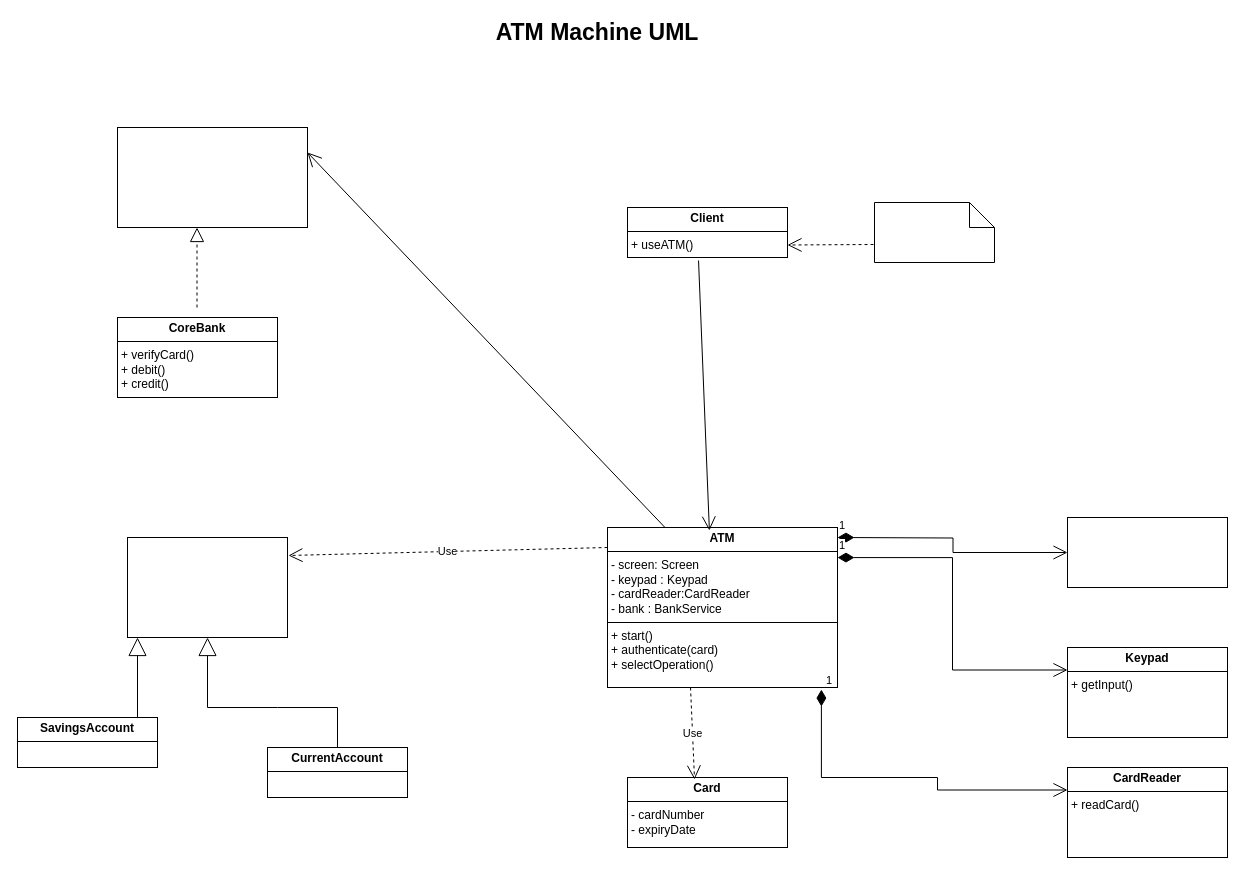
Some shapes in this 1245 by 875 pixel diagram are drawn without their labels. Here are the shapes that lost their labels. From the top down, the centre of each, then its label:
At [212,177]: "<<Interface>> BankService + verifyCard() + debit() + credit()".
At [934,232]: "atm->start()".
At [1147,552]: "Screen + display()".
At [207,587]: "Account - balance + debit() + credit()".
